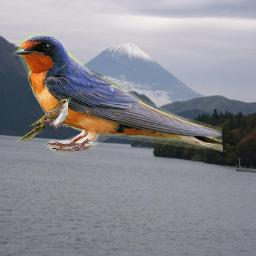Cuckoo: (16, 97, 73, 142)
Swallow: (11, 30, 223, 159)
